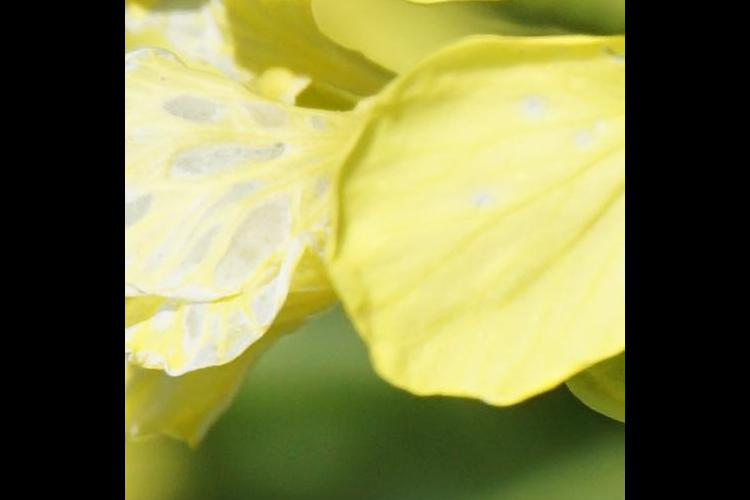yellow: (131, 1, 625, 455)
